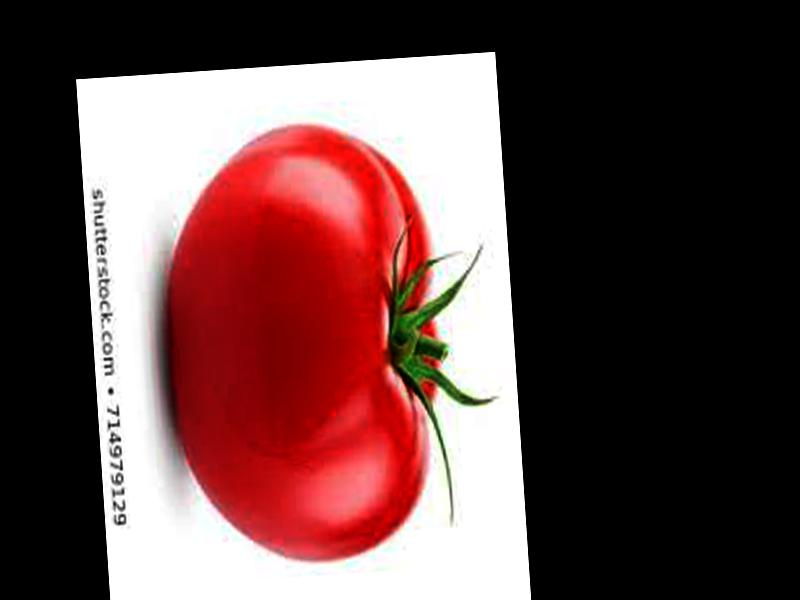Tomato: (157, 116, 447, 569)
